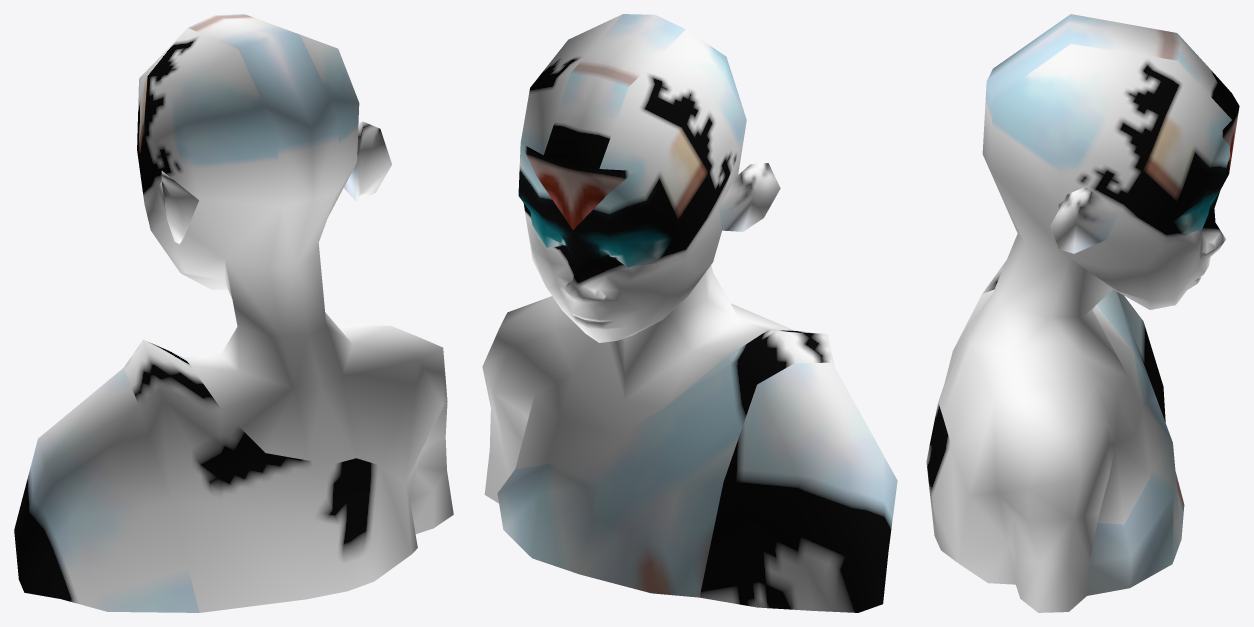
Rendered from static.ico.obj.
The picture shows the model from 3 angles, left to right: view 1: azimuth 30°, elevation 25°; view 2: azimuth 150°, elevation 25°; view 3: azimuth 270°, elevation 25°; orthographic projection. The views are drawn at different scales.
Bounding box in the file's own units: 3.72 × 4.45 × 2.49.
